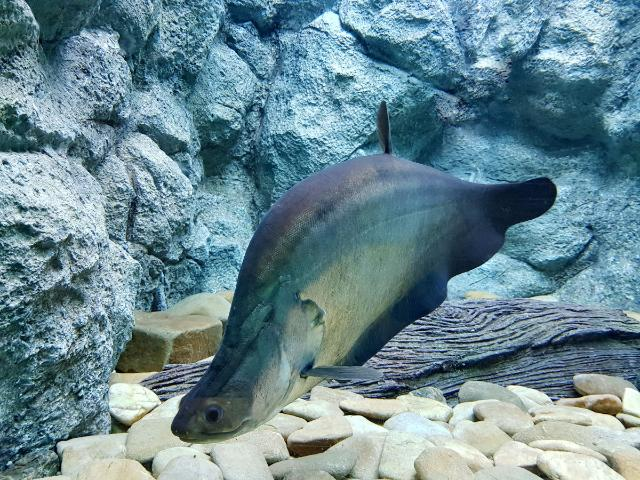Mulut: (165, 388, 261, 454)
Sirip Dada: (292, 355, 398, 399)
Sirip Punggung: (370, 92, 400, 164)
